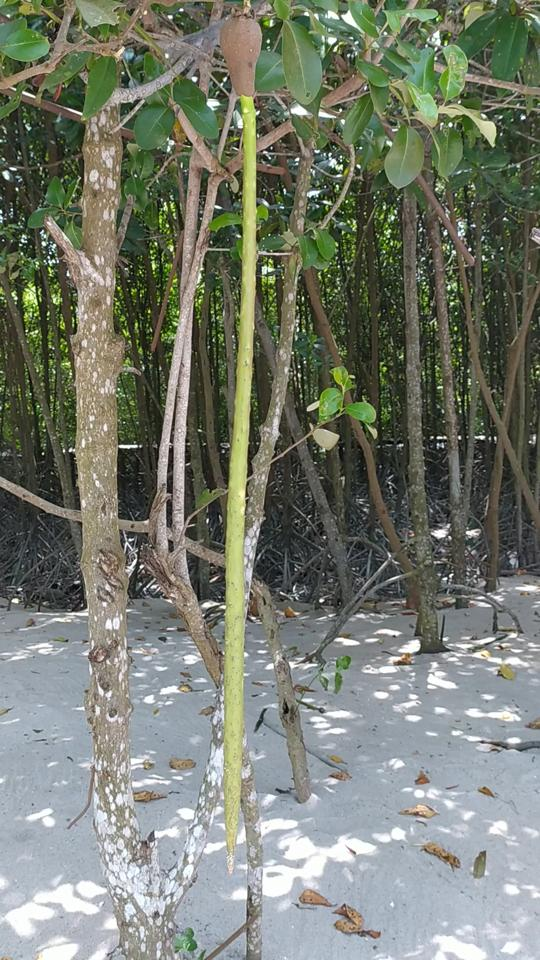mentah: (209, 1, 270, 885)
